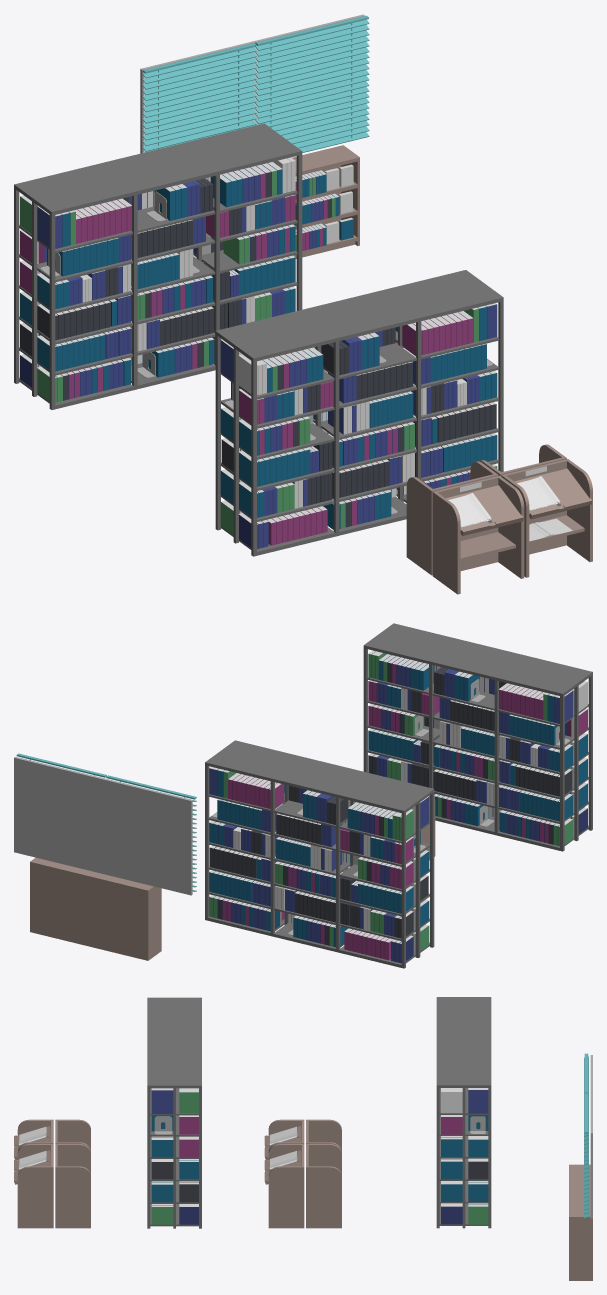
Rendered from Library_Interior.fbx.
3 views of the same model, one above another, from view 1: azimuth 30°, elevation 25°; view 2: azimuth 150°, elevation 25°; view 3: azimuth 270°, elevation 25° (orthographic). The views are drawn at different scales.
Visible parts, largest first — view 1: BookShelf1, BookShelf2, ReadingDesks1, Blind1, Blind2, BookShelfSmall, Window; view 2: BookShelf2, BookShelf1, Window, BookShelfSmall, Blind2; view 3: BookShelf2, BookShelf1, ReadingDesks2, ReadingDesks1, BookShelfSmall, Blind1, Window.
Part boxes in pixels (x1=…): BookShelf1: x1=215, y1=270, x2=503, y2=556; BookShelf2: x1=14, y1=123, x2=302, y2=409; ReadingDesks1: x1=406, y1=444, x2=592, y2=594; Blind1: x1=255, y1=15, x2=369, y2=152; Blind2: x1=142, y1=43, x2=256, y2=152; BookShelfSmall: x1=292, y1=145, x2=359, y2=258; Window: x1=140, y1=14, x2=364, y2=153; BookShelf2: x1=205, y1=740, x2=434, y2=968; BookShelf1: x1=363, y1=623, x2=592, y2=851; Window: x1=14, y1=757, x2=192, y2=895; BookShelfSmall: x1=30, y1=857, x2=161, y2=960; Blind2: x1=106, y1=775, x2=196, y2=891; BookShelf2: x1=436, y1=997, x2=491, y2=1228; BookShelf1: x1=147, y1=997, x2=201, y2=1228; ReadingDesks2: x1=264, y1=1119, x2=341, y2=1228; ReadingDesks1: x1=14, y1=1119, x2=90, y2=1228; BookShelfSmall: x1=569, y1=1164, x2=592, y2=1280; Blind1: x1=584, y1=1093, x2=588, y2=1218; Window: x1=590, y1=1055, x2=592, y2=1218.
Bounding box in the file's own units: 8497 × 4165 × 14061.
